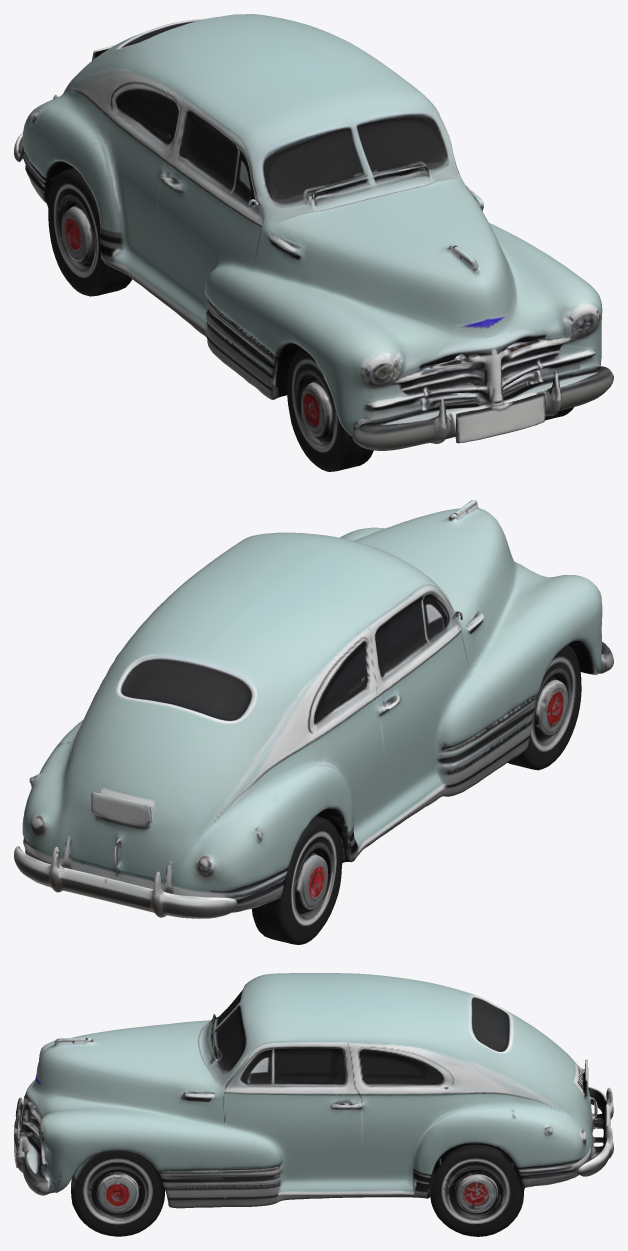
3 renders of one model, top to bottom at view 1: azimuth 30°, elevation 25°; view 2: azimuth 150°, elevation 25°; view 3: azimuth 270°, elevation 25°, orthographic. The views are drawn at different scales.
Visible parts, largest first — view 1: model_0; view 2: model_0; view 3: model_0.
Boxes of the visible parts, x1,y1,x2,y2 form: model_0: (14,14,613,471); model_0: (14,500,613,944); model_0: (14,973,613,1236).
Bounding box in the file's own units: 0.3841 × 0.3705 × 1.
Materials: 1 (1 with a texture image).
